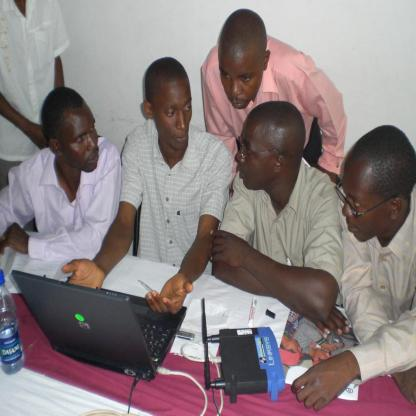board: (17, 268, 193, 392), (0, 268, 24, 378)
